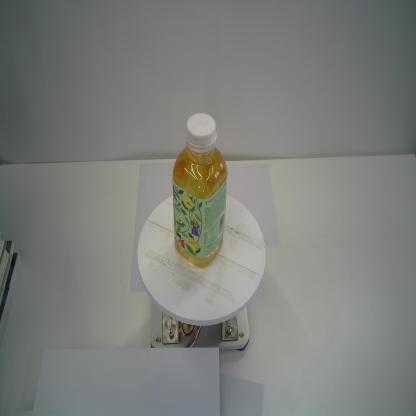Drink: (172, 110, 228, 270)
